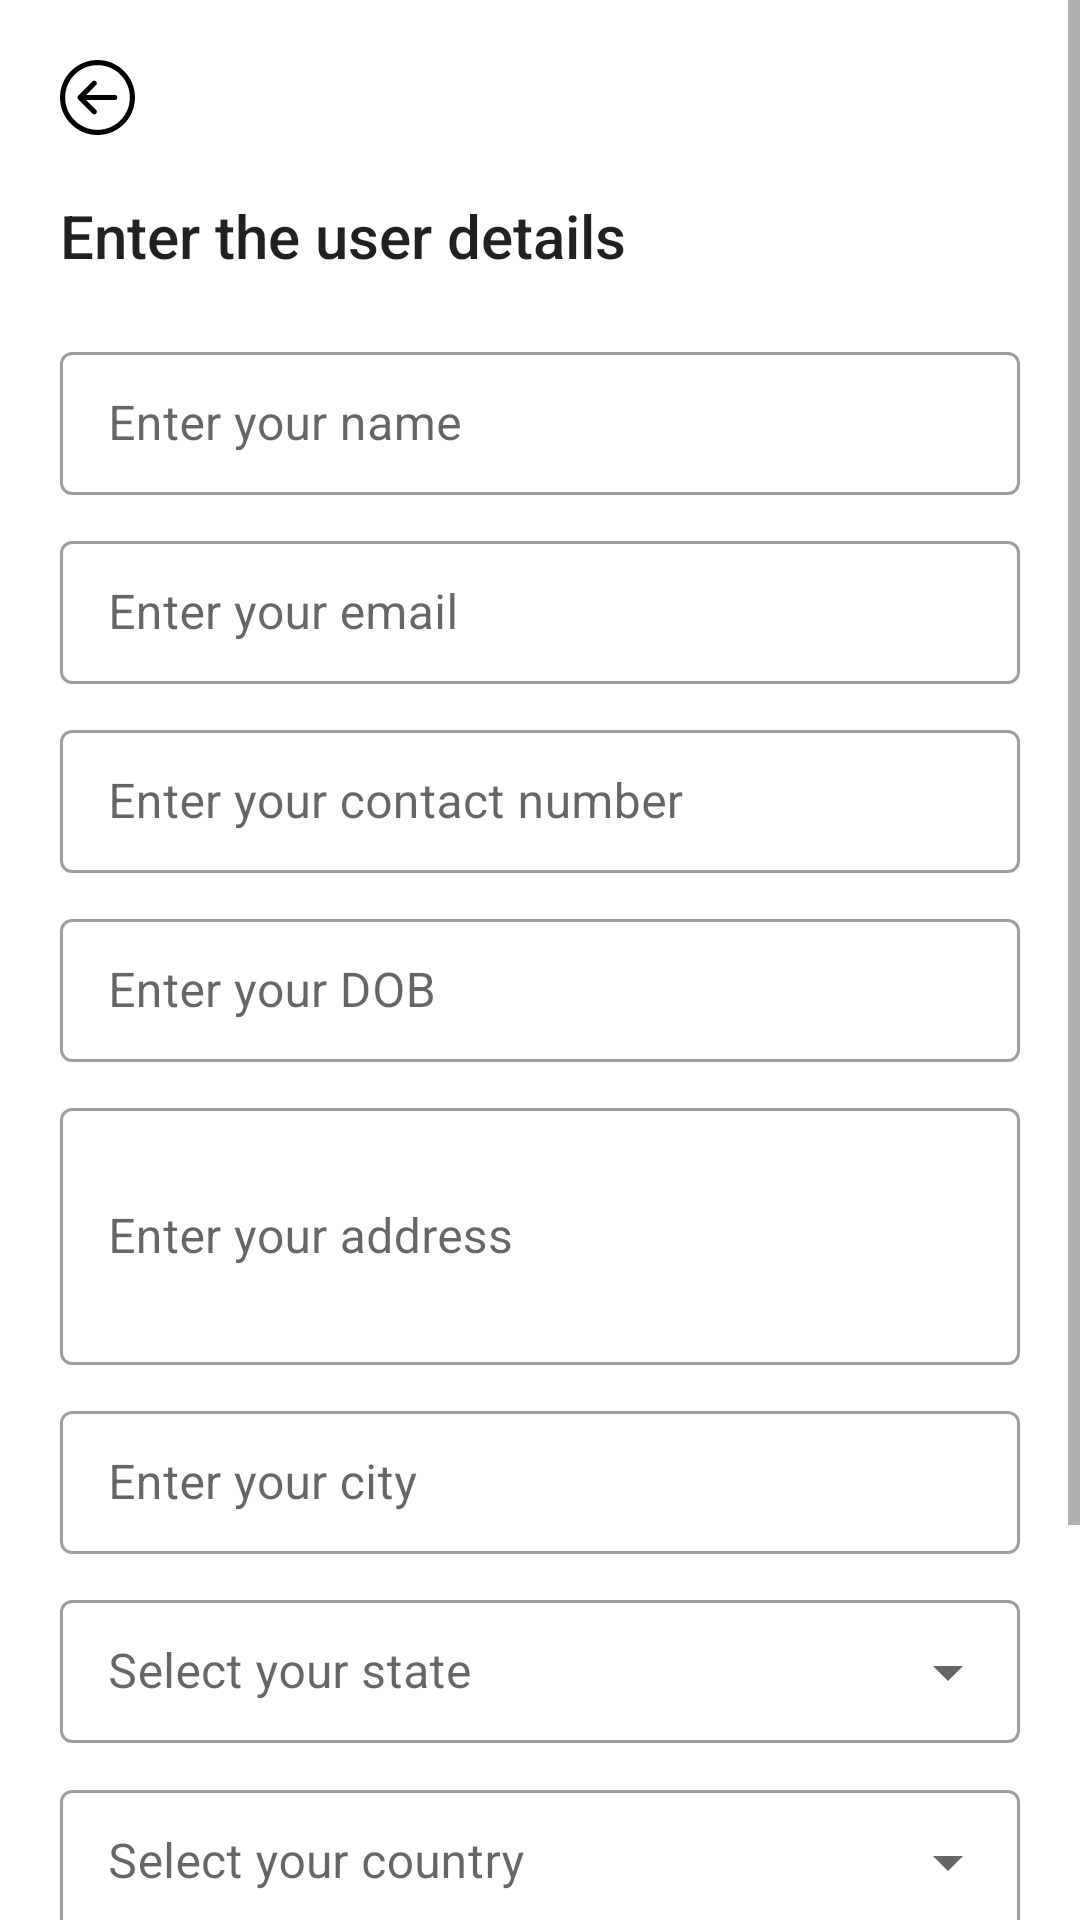

Where icons sit on this 1080px x 1920px app screen, as (x1, y1, x2, y2):
back: (60, 60, 135, 135)
